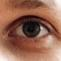eye: (22, 22, 40, 37)
